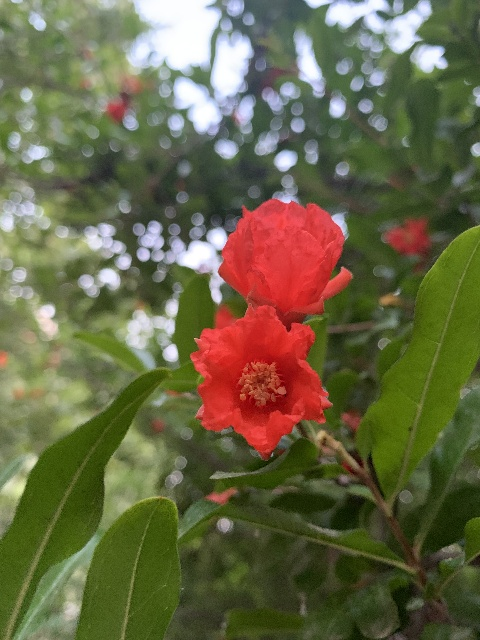flower: (189, 305, 332, 460), (216, 197, 350, 330), (383, 217, 432, 256)
